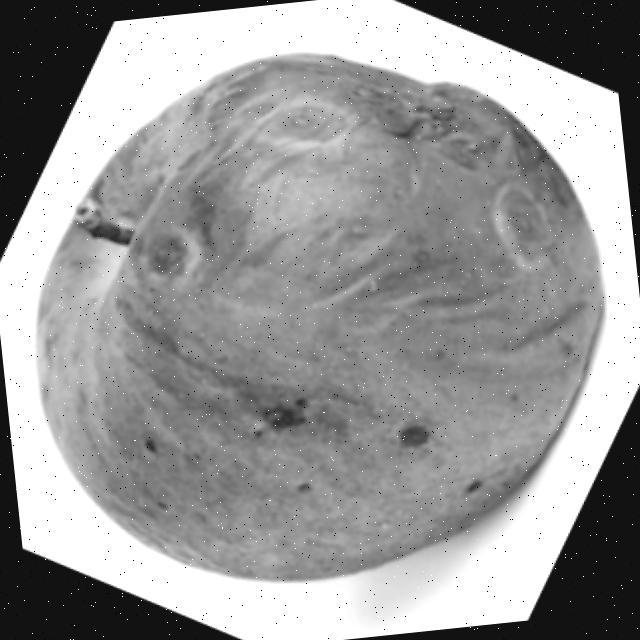Rotten: (0, 15, 640, 611)
